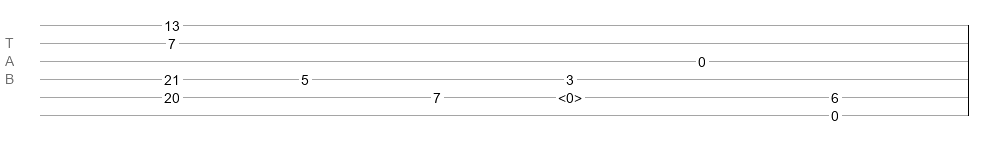0: (698, 54, 706, 64), (831, 108, 839, 118)
13: (164, 18, 180, 28)
20: (164, 90, 180, 100)
21: (164, 72, 180, 82)
3: (566, 72, 574, 82)
5: (301, 72, 309, 82)
6: (831, 90, 839, 100)
7: (168, 36, 176, 46), (433, 90, 441, 100)
harmonic: (558, 90, 582, 100)
